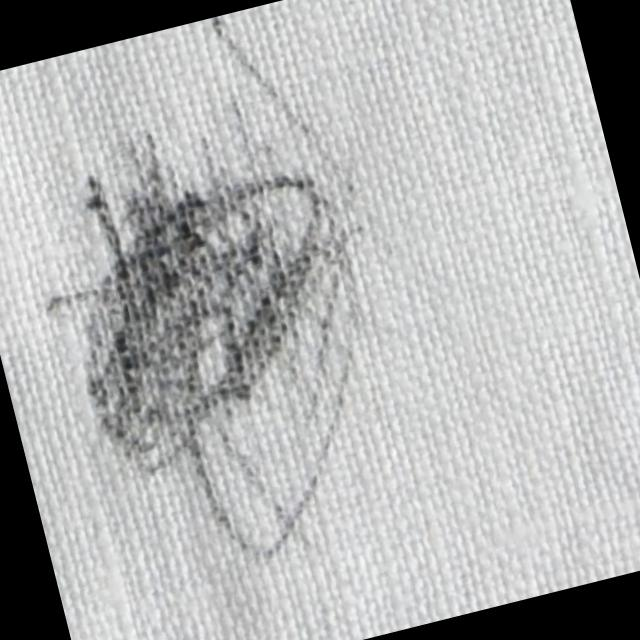Stain: (0, 0, 442, 604)
